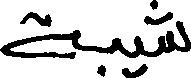X: (0, 7, 75, 63), (158, 7, 190, 60), (112, 33, 122, 77), (134, 31, 141, 77)
